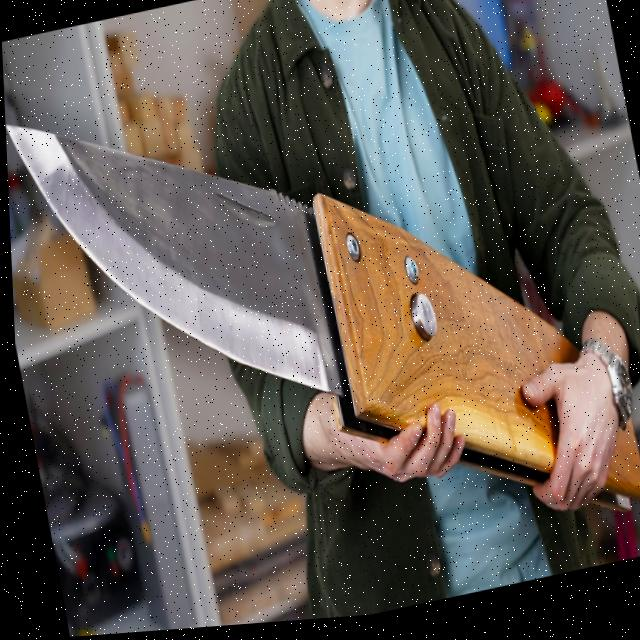knife: (1, 1, 640, 628)
